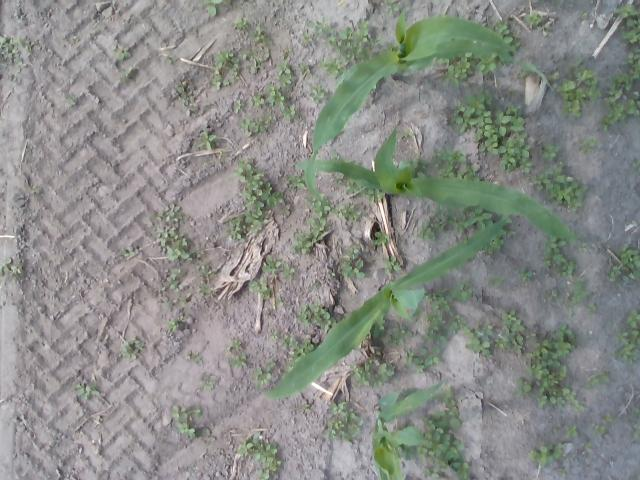Maize: (306, 3, 555, 215), (258, 217, 510, 400), (294, 120, 581, 242), (371, 379, 443, 480)
Weeds: (448, 87, 532, 174), (526, 322, 584, 410), (236, 156, 284, 234), (534, 164, 584, 213), (328, 19, 380, 62), (236, 432, 282, 471), (605, 60, 640, 102), (598, 98, 638, 130), (616, 309, 640, 361), (294, 301, 332, 331), (615, 3, 640, 44), (558, 80, 584, 117), (567, 274, 589, 316), (426, 435, 464, 458), (462, 324, 491, 354), (528, 442, 562, 466), (448, 56, 476, 84), (150, 204, 183, 227), (165, 236, 192, 262), (568, 57, 596, 82), (306, 193, 330, 218), (73, 378, 98, 401), (340, 256, 366, 278), (372, 362, 396, 385), (307, 15, 335, 34), (451, 280, 475, 302), (468, 208, 494, 228), (151, 227, 178, 246), (428, 292, 451, 314), (212, 50, 240, 68), (619, 245, 640, 269), (120, 338, 142, 360), (422, 417, 443, 440), (252, 366, 271, 390), (423, 311, 447, 330), (442, 144, 467, 162), (392, 322, 413, 343), (447, 311, 466, 334), (430, 412, 461, 426), (585, 372, 610, 389), (619, 46, 640, 65), (422, 330, 448, 345), (352, 366, 371, 386), (421, 347, 441, 366), (478, 56, 498, 74), (544, 236, 566, 252), (307, 219, 326, 237), (262, 255, 280, 274), (279, 330, 298, 348), (452, 460, 471, 478), (226, 218, 243, 238), (555, 261, 576, 277), (384, 332, 406, 347), (398, 157, 428, 168), (329, 57, 347, 75), (310, 84, 328, 102), (196, 132, 216, 148), (342, 204, 362, 220), (176, 422, 196, 438), (576, 134, 596, 150), (514, 378, 531, 396), (162, 273, 178, 292), (418, 221, 434, 240), (439, 208, 458, 224), (484, 239, 504, 254), (205, 0, 222, 17), (240, 118, 258, 134), (500, 308, 516, 326), (290, 241, 312, 254), (456, 213, 471, 232), (586, 81, 600, 101), (382, 0, 399, 16), (494, 20, 510, 37), (458, 171, 482, 182), (121, 66, 137, 82), (172, 404, 188, 420), (288, 174, 306, 188), (170, 263, 188, 277), (430, 148, 443, 166), (546, 286, 560, 302), (510, 317, 526, 331), (544, 144, 560, 158), (525, 12, 541, 26), (230, 355, 247, 368), (437, 166, 455, 178), (0, 257, 12, 275), (295, 61, 310, 75), (332, 402, 347, 416), (606, 266, 620, 281), (520, 266, 533, 282), (268, 85, 278, 105), (176, 80, 187, 98), (116, 46, 130, 60), (251, 26, 263, 42), (282, 264, 294, 280), (446, 400, 458, 416), (432, 459, 448, 471), (505, 327, 514, 348), (441, 386, 452, 403), (233, 17, 247, 30), (300, 337, 314, 350), (350, 421, 363, 435), (369, 190, 384, 202), (477, 322, 492, 334), (414, 357, 424, 374), (565, 425, 578, 438), (278, 61, 290, 75), (375, 231, 387, 245), (199, 282, 213, 294), (324, 426, 336, 440), (212, 74, 222, 90), (424, 468, 440, 478), (488, 276, 504, 286), (283, 105, 296, 117), (293, 347, 305, 360), (179, 293, 190, 307), (278, 75, 292, 86), (256, 469, 270, 480), (405, 348, 414, 365), (552, 254, 567, 264), (192, 246, 204, 258), (121, 248, 139, 256), (231, 337, 243, 349), (590, 424, 606, 433), (260, 112, 274, 122), (350, 180, 360, 194), (260, 286, 270, 300), (1, 46, 12, 58), (65, 93, 77, 104), (248, 280, 259, 292), (253, 95, 264, 106), (24, 39, 34, 51), (234, 98, 242, 113), (318, 59, 328, 71), (544, 253, 552, 268), (345, 246, 359, 254), (168, 53, 179, 63), (416, 447, 426, 458), (434, 222, 445, 232), (284, 360, 294, 370), (334, 420, 344, 430), (432, 208, 442, 218), (276, 91, 285, 102), (629, 269, 640, 278), (403, 128, 414, 137), (633, 424, 640, 438), (163, 296, 171, 308), (516, 332, 524, 344), (586, 302, 594, 314), (10, 264, 22, 272), (18, 62, 27, 72), (332, 175, 342, 184), (296, 231, 306, 240), (168, 321, 178, 330), (403, 447, 412, 457), (368, 354, 378, 363), (495, 338, 504, 348), (578, 242, 588, 251), (303, 31, 311, 42), (334, 207, 342, 218), (339, 431, 350, 439), (203, 266, 215, 273), (578, 11, 587, 20), (559, 467, 568, 476), (12, 38, 22, 46), (110, 40, 118, 50), (264, 34, 272, 44), (229, 68, 239, 76), (517, 344, 524, 355), (265, 46, 270, 61), (31, 186, 40, 194), (192, 406, 200, 415), (302, 405, 310, 414), (604, 414, 612, 423), (631, 410, 640, 418), (252, 61, 262, 68), (466, 166, 476, 173), (350, 408, 356, 419), (415, 171, 426, 177), (634, 159, 640, 170), (0, 36, 8, 44), (182, 98, 190, 106), (195, 358, 203, 366), (622, 276, 630, 284), (276, 297, 283, 306), (177, 315, 186, 322), (238, 54, 248, 60), (270, 330, 277, 338), (312, 280, 319, 288), (332, 150, 338, 159), (362, 188, 368, 197), (266, 360, 275, 366), (252, 57, 262, 62), (264, 308, 269, 318), (526, 334, 536, 339), (72, 36, 78, 44), (329, 268, 335, 276), (208, 380, 216, 386), (512, 338, 518, 346), (584, 442, 592, 448), (230, 76, 237, 82), (198, 264, 205, 270), (228, 345, 234, 352), (223, 0, 233, 4), (343, 414, 348, 422), (223, 79, 229, 85), (259, 125, 265, 131), (258, 278, 264, 284), (328, 420, 334, 426), (13, 47, 18, 53), (193, 30, 198, 36), (552, 428, 557, 433), (204, 386, 211, 389), (286, 47, 290, 52), (280, 101, 284, 105), (220, 151, 222, 159), (204, 162, 208, 166)
